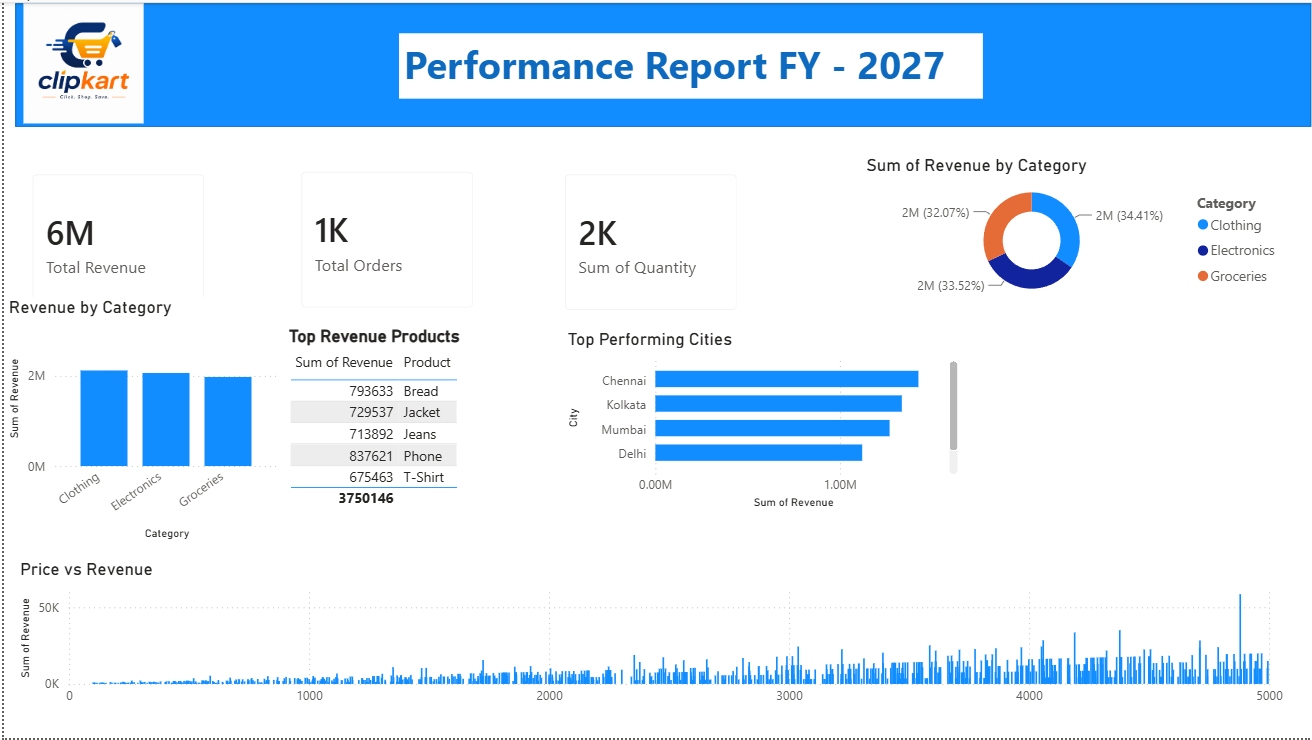

Layout of this report page (visuals, bound fields, positions):
{"tool":"powerbi","page":{"name":"Page 1","canvas":[1280,720],"ordinal":0},"visuals":[{"type":"shape","box":[10.7,1.8,1269,121],"z":0},{"type":"image","box":[10.7,1.8,133.5,117.5],"z":1000},{"type":"textbox","box":[386.2,30.3,571.3,64.1],"z":2000},{"type":"cardVisual","fields":{"Data":["Sum(Clipkart_ecommerce_data (3).Revenue)"]},"box":[10.7,151.3,202.9,167.3],"z":3000},{"type":"columnChart","title":"Price vs Revenue","fields":{"Category":["Clipkart_ecommerce_data (3).Price"],"Y":["Sum(Clipkart_ecommerce_data (3).Revenue)"]},"box":[10.7,544.6,1245.9,153.1],"z":3001},{"type":"columnChart","title":"Revenue by Category","fields":{"Category":["Clipkart_ecommerce_data (3).Category"],"Y":["Sum(Clipkart_ecommerce_data (3).Revenue)"]},"box":[0,288.6,274.1,242.4],"z":3002},{"type":"tableEx","title":"Top Revenue Products","fields":{"Values":["Sum(Clipkart_ecommerce_data (3).Revenue)","Clipkart_ecommerce_data (3).Product"]},"box":[274.1,316.8,272.3,186.9],"z":3003},{"type":"cardVisual","fields":{"Data":["CountNonNull(Clipkart_ecommerce_data (3).OrderID)"]},"box":[274.1,149.5,202.9,167.3],"z":3004},{"type":"cardVisual","fields":{"Data":["Sum(Clipkart_ecommerce_data (3).Quantity)"]},"box":[532.2,151.3,202.9,167.3],"z":3005},{"type":"clusteredBarChart","title":"Top Performing Cities","fields":{"Category":["Clipkart_ecommerce_data (3).City"],"Y":["Sum(Clipkart_ecommerce_data (3).Revenue)"]},"box":[546.4,318.6,391.6,181.5],"z":3006},{"type":"donutChart","fields":{"Category":["Ckart Sales.Category"],"Y":["Sum(Ckart Sales.Revenue)"]},"box":[838.3,149.5,418.2,149.5],"z":3007}]}

Visuals, with their boxes in screenshot pixels (x1, y1, x2, y2), scaled from the page's 1280x720 canvas onto the 1312x740 screenshot:
shape: 11/2/1311/126
image: 11/2/148/123
textbox: 396/31/981/97
cardVisual - Sum(Clipkart_ecommerce_data (3).Revenue): 11/156/219/327
"Price vs Revenue" columnChart: 11/560/1288/717
"Revenue by Category" columnChart: 0/297/281/546
"Top Revenue Products" tableEx: 281/326/560/518
cardVisual - CountNonNull(Clipkart_ecommerce_data (3).OrderID): 281/154/489/326
cardVisual - Sum(Clipkart_ecommerce_data (3).Quantity): 546/156/753/327
"Top Performing Cities" clusteredBarChart: 560/327/961/514
donutChart - Ckart Sales.Category x Sum(Ckart Sales.Revenue): 859/154/1288/307
